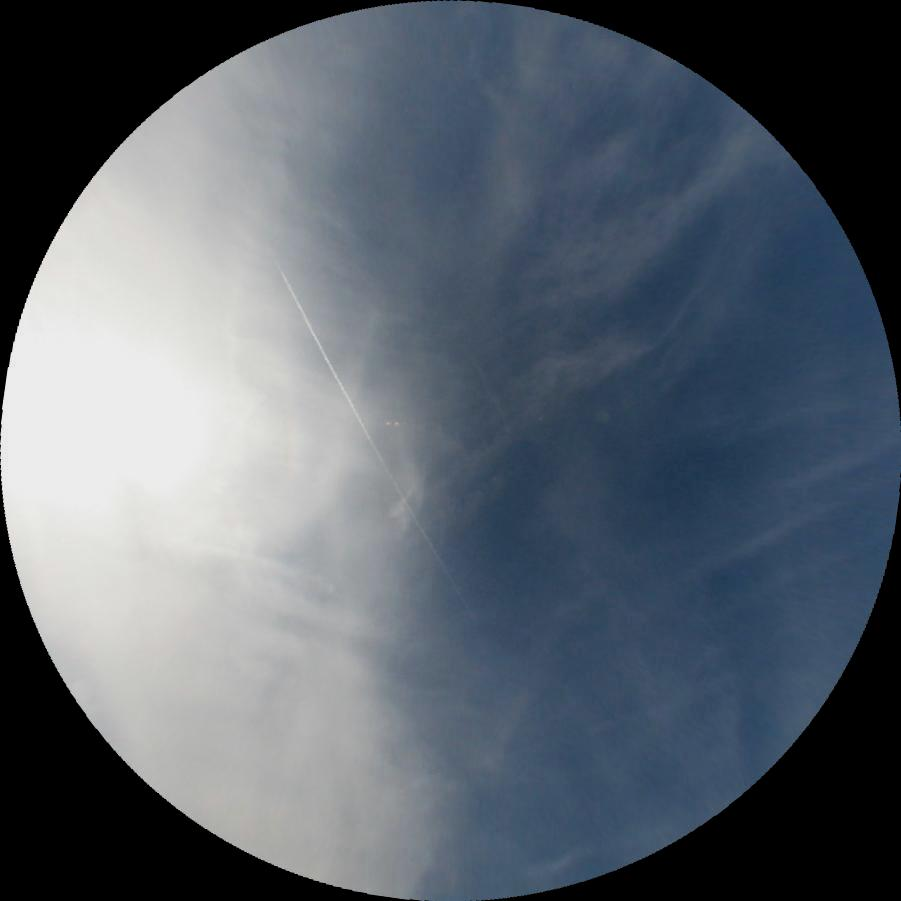contrail young: (268, 256, 479, 626)
sun: (0, 312, 217, 521)
